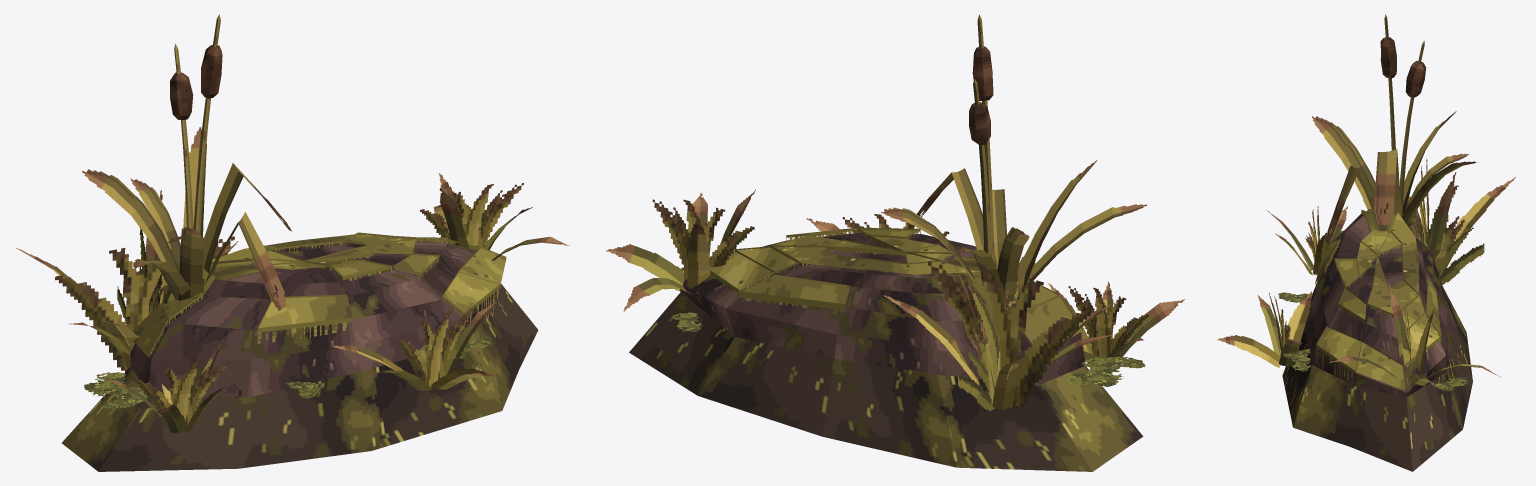
The model's file is SM_SW01_HummockLong.fbx.
3 renders of one model, left to right at view 1: azimuth 30°, elevation 25°; view 2: azimuth 150°, elevation 25°; view 3: azimuth 270°, elevation 25°, orthographic. The views are drawn at different scales.
Parts seen in each view (by area): view 1: SW01b_Plants, SW01b_Mud, SW01b_Peat, SW01b_Moss, SW01b_Props; view 2: SW01b_Mud, SW01b_Plants, SW01b_Peat, SW01b_Moss, SW01b_Props; view 3: SW01b_Plants, SW01b_Mud, SW01b_Peat, SW01b_Moss, SW01b_Props.
Part boxes in pixels (left/top/right/bottom): SW01b_Plants: left=16, top=14, right=569, bottom=433; SW01b_Mud: left=62, top=284, right=538, bottom=471; SW01b_Peat: left=130, top=241, right=498, bottom=397; SW01b_Moss: left=132, top=234, right=506, bottom=357; SW01b_Props: left=170, top=45, right=222, bottom=120; SW01b_Mud: left=629, top=292, right=1143, bottom=471; SW01b_Plants: left=606, top=14, right=1184, bottom=411; SW01b_Peat: left=679, top=233, right=1085, bottom=385; SW01b_Moss: left=682, top=229, right=1082, bottom=343; SW01b_Props: left=969, top=46, right=993, bottom=145; SW01b_Plants: left=1217, top=14, right=1515, bottom=391; SW01b_Mud: left=1282, top=287, right=1472, bottom=471; SW01b_Peat: left=1304, top=212, right=1455, bottom=397; SW01b_Moss: left=1315, top=209, right=1441, bottom=390; SW01b_Props: left=1380, top=37, right=1426, bottom=97.
Size of the model in its own units: 1.88 by 1.43 by 1.19.
